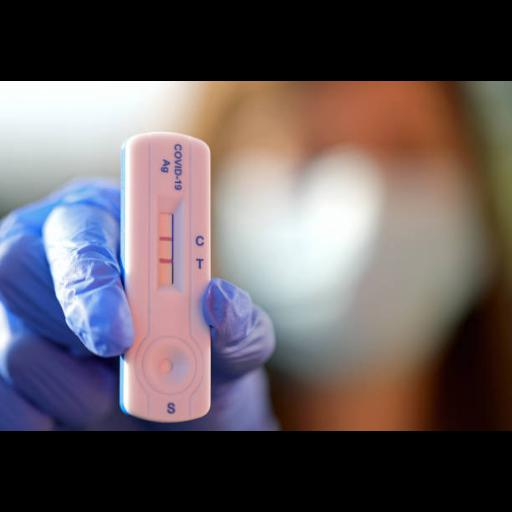Pos: (126, 134, 208, 414)
